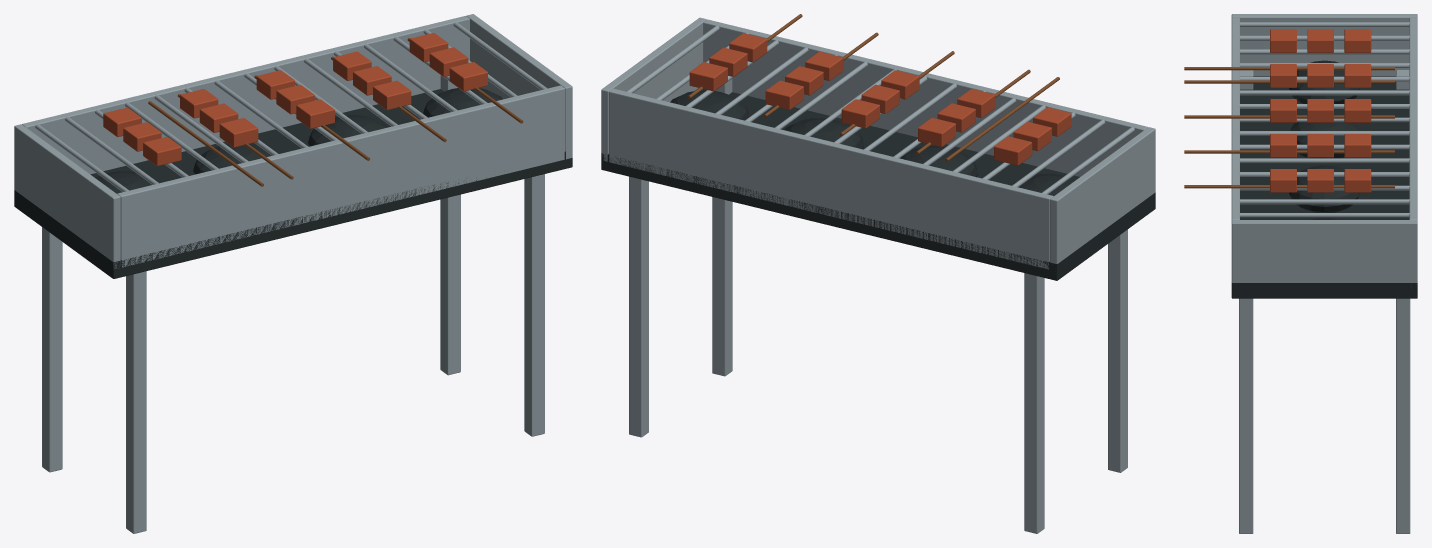
Rendered from source-edit.glb.
The picture shows the model from 3 angles, left to right: view 1: azimuth 30°, elevation 25°; view 2: azimuth 150°, elevation 25°; view 3: azimuth 270°, elevation 25°; orthographic projection. The views are drawn at different scales.
Visible parts, largest first — view 1: Firebox_Side, Firebox_Side.001, Firebox_Base, Firebox_End, Leg, Leg.002, Leg.001, Firebox_End.001, Leg.003, Charcoal, Charcoal.003, Charcoal.002 (+23 smaller); view 2: Firebox_Side.001, Firebox_Side, Firebox_Base, Firebox_End, Leg.001, Leg.003, Leg, Firebox_End.001, Leg.002, Charcoal.003, Charcoal, Charcoal.002 (+23 smaller); view 3: Firebox_End.001, Firebox_Base, Firebox_End, Leg.002, Leg.003, Firebox_Side.001, Firebox_Side, Charcoal.003, Cooking_Grate.006, Cooking_Grate.011, Cooking_Grate.014, Charcoal.002 (+33 smaller).
Part boxes in pixels (x1=…): Firebox_Side: x1=117, y1=85, x2=564, y2=267; Firebox_Side.001: x1=22, y1=16, x2=469, y2=174; Firebox_Base: x1=14, y1=89, x2=572, y2=278; Firebox_End: x1=14, y1=124, x2=120, y2=268; Leg: x1=126, y1=271, x2=146, y2=533; Leg.002: x1=524, y1=174, x2=544, y2=436; Leg.001: x1=42, y1=227, x2=62, y2=472; Firebox_End.001: x1=466, y1=14, x2=572, y2=159; Leg.003: x1=440, y1=75, x2=460, y2=375; Charcoal: x1=423, y1=88, x2=502, y2=117; Charcoal.003: x1=308, y1=115, x2=387, y2=146; Charcoal.002: x1=193, y1=144, x2=271, y2=174; Firebox_Side.001: x1=609, y1=88, x2=1053, y2=269; Firebox_Side: x1=703, y1=19, x2=1147, y2=176; Firebox_Base: x1=601, y1=88, x2=1155, y2=280; Firebox_End: x1=1050, y1=127, x2=1155, y2=263; Leg.001: x1=1024, y1=273, x2=1044, y2=533; Leg.003: x1=629, y1=176, x2=648, y2=437; Leg: x1=1108, y1=229, x2=1127, y2=472; Firebox_End.001: x1=601, y1=17, x2=706, y2=161; Leg.002: x1=712, y1=78, x2=732, y2=376; Charcoal.003: x1=784, y1=118, x2=863, y2=149; Charcoal: x1=670, y1=90, x2=749, y2=120; Charcoal.002: x1=900, y1=146, x2=978, y2=176; Firebox_End.001: x1=1231, y1=220, x2=1417, y2=282; Firebox_Base: x1=1231, y1=76, x2=1417, y2=298; Firebox_End: x1=1231, y1=14, x2=1417, y2=75; Leg.002: x1=1239, y1=298, x2=1253, y2=533; Leg.003: x1=1396, y1=298, x2=1410, y2=533; Firebox_Side.001: x1=1409, y1=17, x2=1417, y2=219; Firebox_Side: x1=1231, y1=17, x2=1239, y2=220; Charcoal.003: x1=1289, y1=165, x2=1360, y2=212; Cooking_Grate.006: x1=1239, y1=90, x2=1409, y2=95; Cooking_Grate.011: x1=1239, y1=158, x2=1409, y2=163; Cooking_Grate.014: x1=1239, y1=199, x2=1409, y2=204; Charcoal.002: x1=1290, y1=114, x2=1358, y2=158.
Size of the model in its own units: 1.2 by 0.8975 by 0.565.
